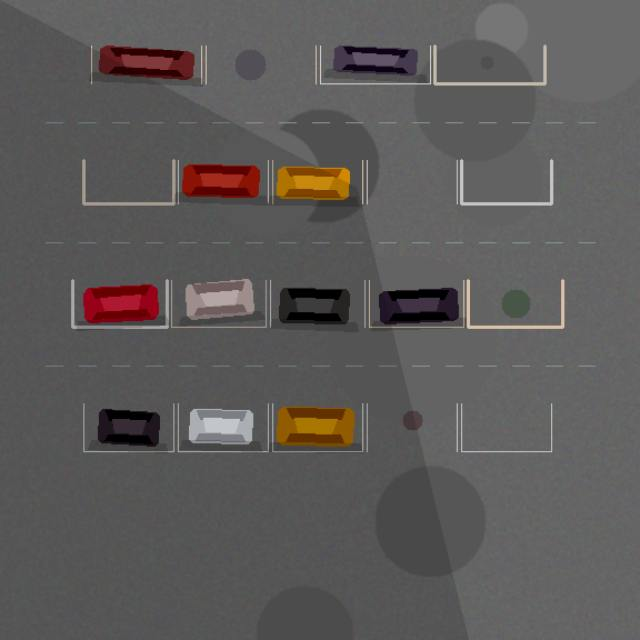space-empty: (468, 280, 562, 327), (367, 403, 457, 451), (461, 403, 551, 451), (206, 46, 316, 83), (434, 46, 544, 83), (83, 160, 173, 203), (367, 160, 457, 203), (461, 160, 551, 203)
space-occupied: (72, 280, 167, 327), (171, 280, 266, 327), (270, 280, 364, 327), (369, 280, 463, 327), (83, 403, 173, 451), (178, 403, 268, 451), (272, 403, 362, 451), (91, 46, 201, 83), (320, 46, 430, 83), (178, 160, 268, 203), (272, 160, 362, 203)
